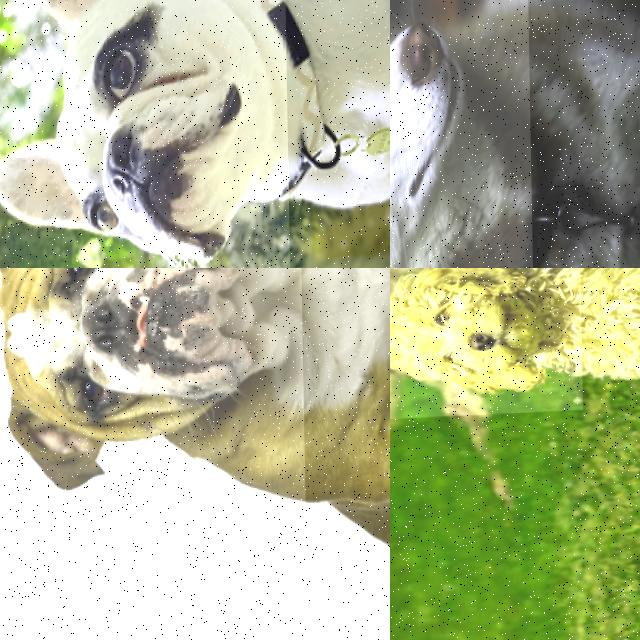bulldog: (0, 0, 290, 268), (0, 268, 305, 517)
husky: (390, 0, 535, 268)
poodle: (390, 268, 584, 420)
